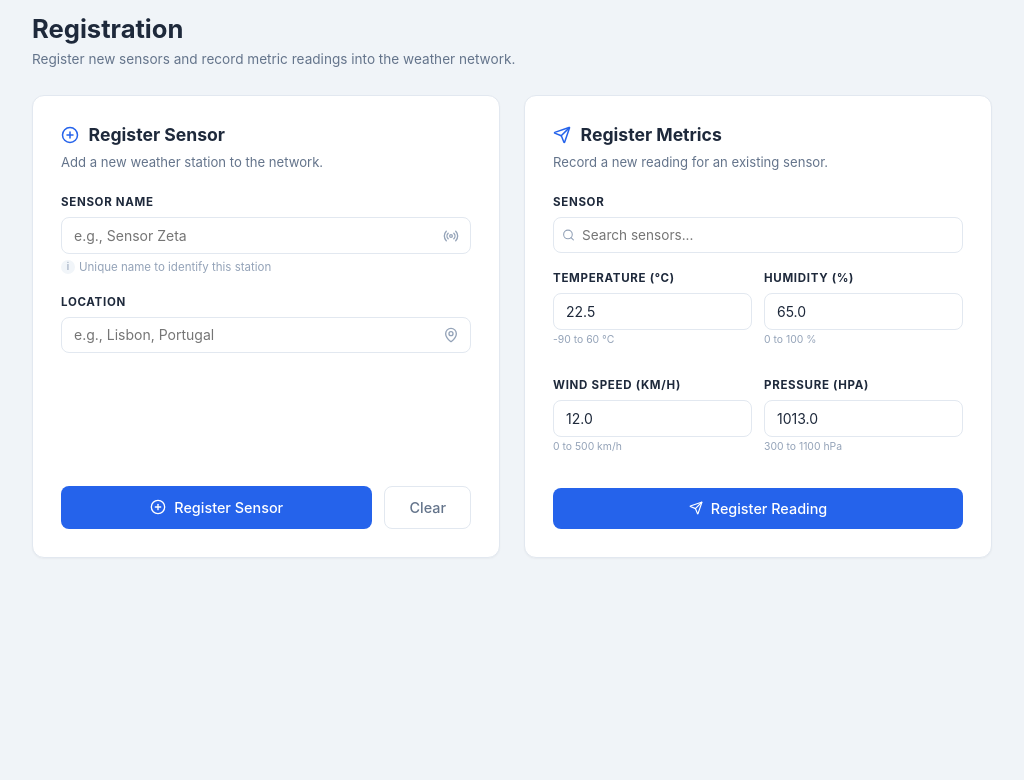
Test: Registration › shows error for blank sensor name
This screenshot has width=1024, height=780.
Click the button "Register Sensor" at (217, 507), box [61, 486, 372, 529]
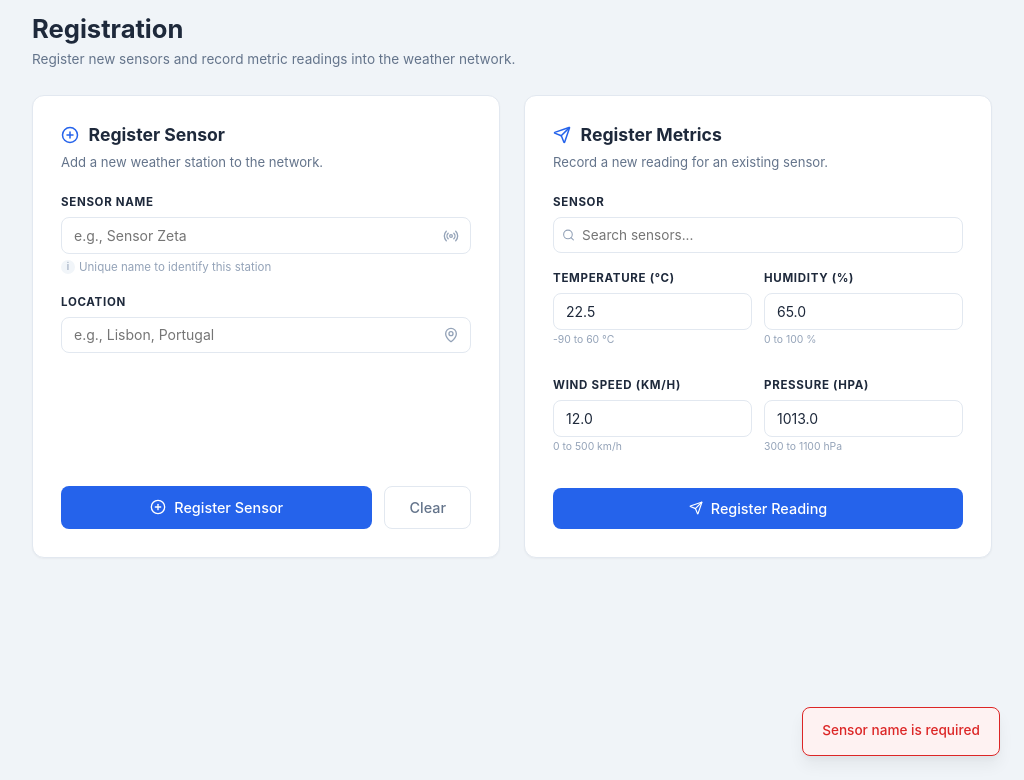
Now the text "Sensor name is required" is shown, box [802, 707, 1000, 756]
